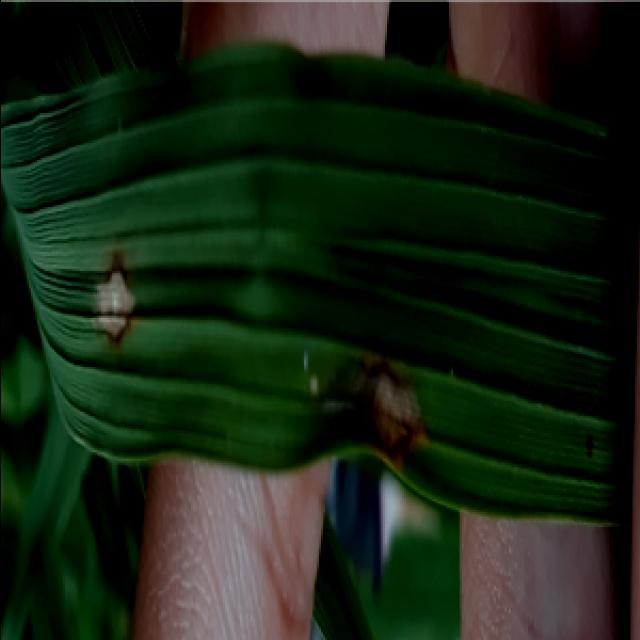Brown_Spot: (335, 349, 426, 456), (76, 257, 154, 357)
